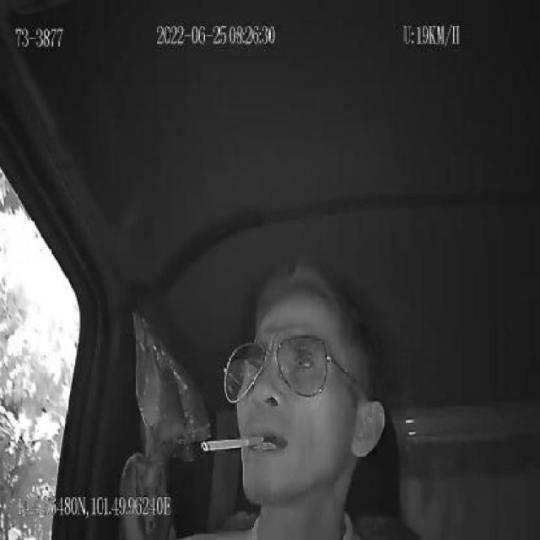smoking: (197, 435, 269, 452)
